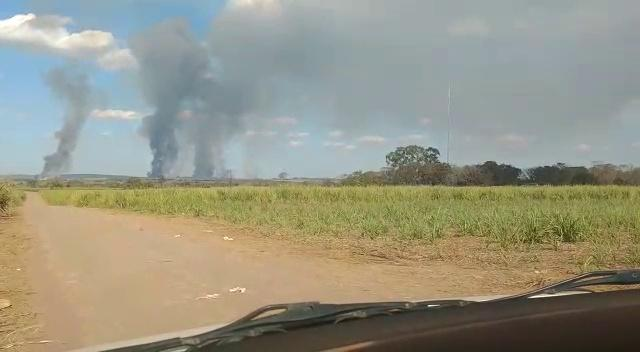smoke: (230, 15, 330, 74), (141, 28, 199, 93)
